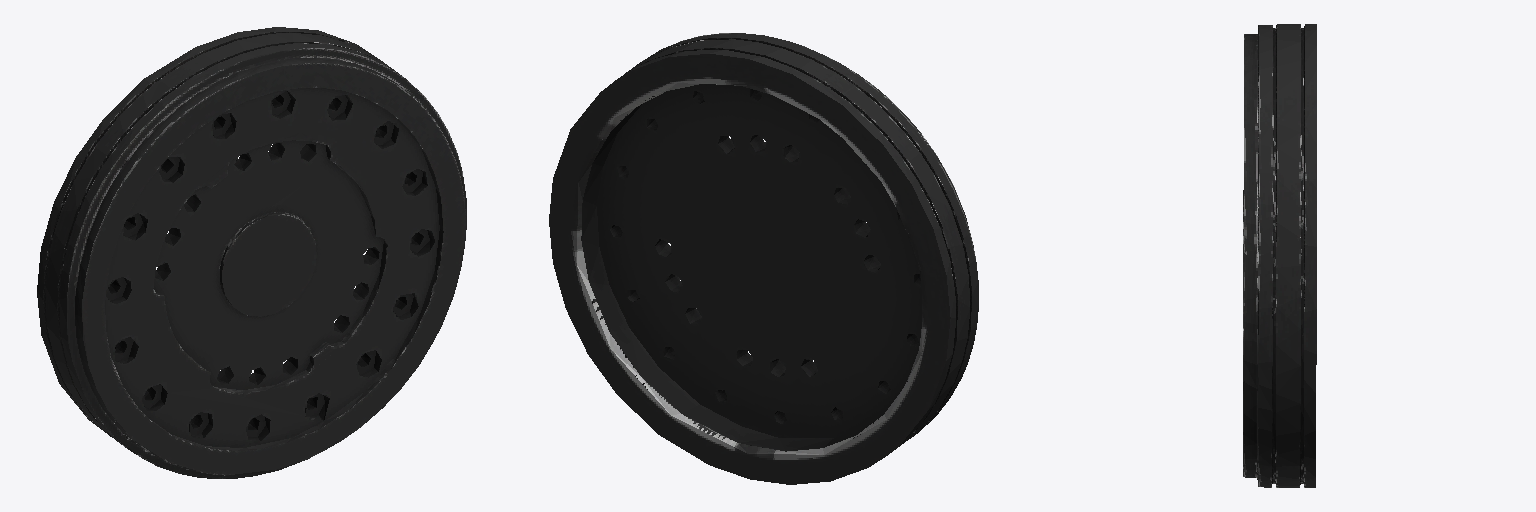
The picture shows the model from 3 angles: view 1: azimuth 30°, elevation 25°; view 2: azimuth 150°, elevation 25°; view 3: azimuth 270°, elevation 25°; orthographic projection.
Parts seen in each view (by area): view 1: Case6_Axis5_-_Axis6Cap-1; view 2: Case6_Axis5_-_Axis6Cap-1; view 3: Case6_Axis5_-_Axis6Cap-1.
Boxes of the visible parts, x1,y1,x2,y2 form: Case6_Axis5_-_Axis6Cap-1: [37, 27, 466, 478]; Case6_Axis5_-_Axis6Cap-1: [549, 33, 978, 484]; Case6_Axis5_-_Axis6Cap-1: [1243, 24, 1316, 487].
Size of the model in its own units: 0.247 by 0.247 by 0.0392.
1 materials, 1 textured.